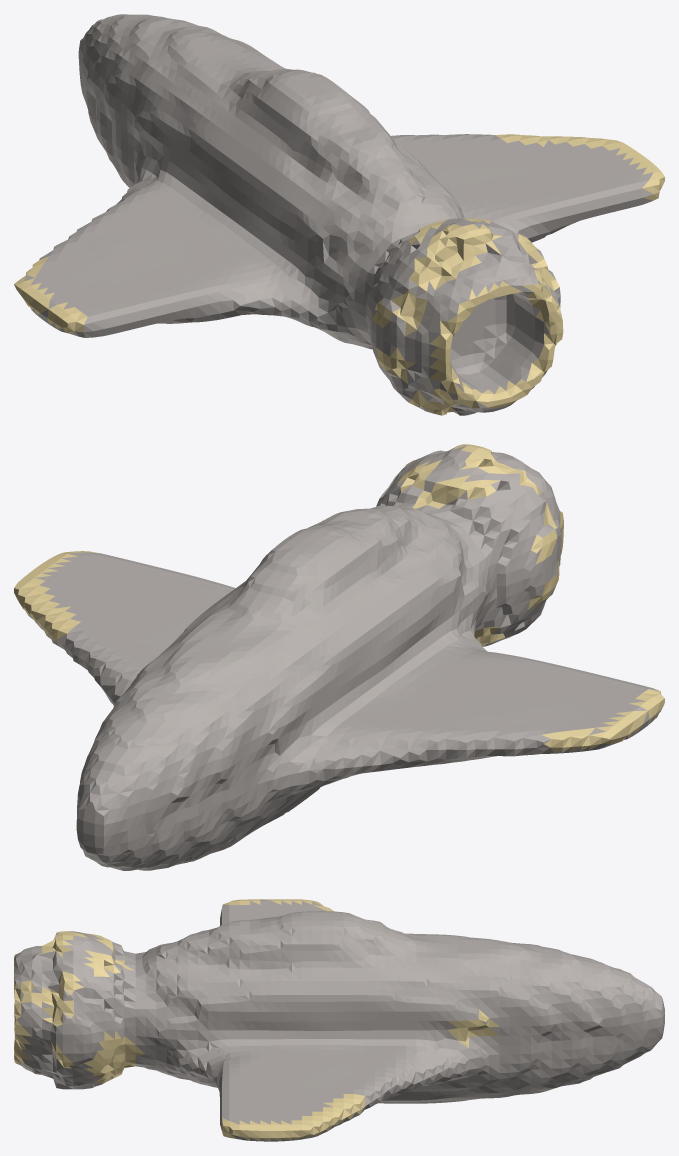
Rendered from unit_seraph.glb.
3 renders of one model, top to bottom at view 1: azimuth 30°, elevation 25°; view 2: azimuth 150°, elevation 25°; view 3: azimuth 270°, elevation 25°, orthographic. The views are drawn at different scales.
Parts seen in each view (by area): view 1: Mesh_0.054; view 2: Mesh_0.054; view 3: Mesh_0.054.
Part boxes in pixels (<box>): Mesh_0.054: <box>14,14,664,415</box>; Mesh_0.054: <box>14,444,664,870</box>; Mesh_0.054: <box>14,899,664,1141</box>.
Bounding box in the file's own units: 3.21 × 1.14 × 3.8.
